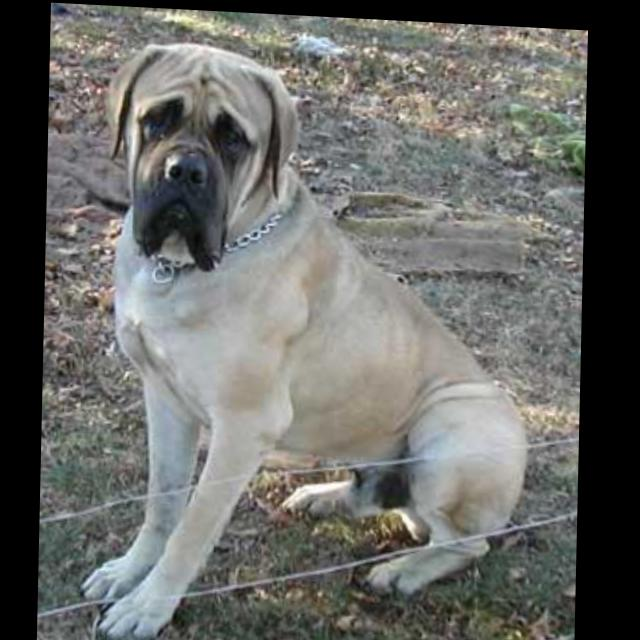bullmastiff: (85, 35, 541, 640)
